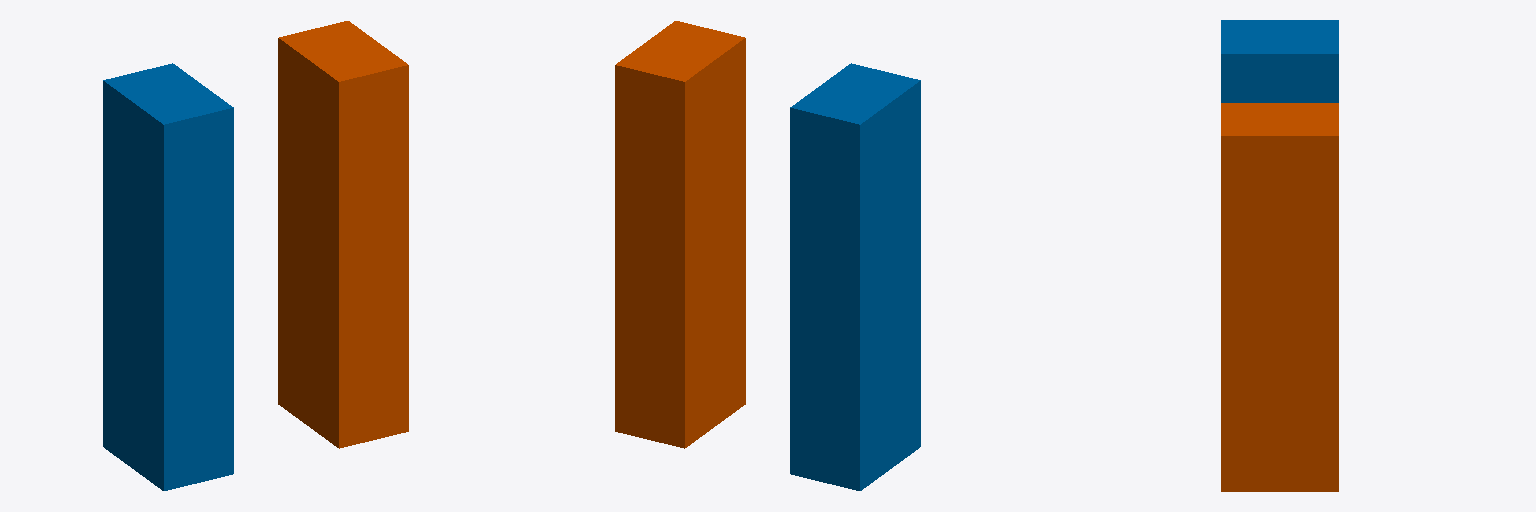
The robot description file, URDF, robot "kuka_iiwa":
<?xml version="1.0" ?>
<!--Autogenerated by "taco/models/sdf2urdf" converter from "../kuka_iiwa/kuka_iiwa.sdf"-->
<robot name="kuka_iiwa">

    <!-- GROUND LINK -->
  <link name ="ground_link">
    <inertial>
      <origin xyz="0.0 0.0 0.0" rpy="0 0 0" />
      <mass value="0.001" />
      <inertia ixx="1E-06" ixy="0.0" ixz="0.0" iyy="1E-06" iyz="0.0" izz="1E-06" />
    </inertial>
  </link>


  <!-- MOBILE BASE LINKS -->
  <link name ="base_x">
    <inertial>
      <origin xyz="0.0 0.0 0.0" rpy="0 0 0" />
      <mass value="0.001" />
      <inertia ixx="1E-06" ixy="0.0" ixz="0.0" iyy="1E-06" iyz="0.0" izz="1E-06" />
    </inertial>
  </link>

  <link name = "base_y">
    <inertial>
      <origin xyz="0.0 0.0 0.0" rpy="0 0 0" />
      <mass value = "0.001" />
      <inertia ixx="1E-06" ixy="0.0" ixz="0.0" iyy="1E-06" iyz="0.0" izz="1E-06" />
    </inertial>
  </link>

  <!-- MOBILE BASE -->
  <link name = "mobile_base">
    <inertial>
      <origin xyz="0.0 0.0 0.1757" rpy="0 0 0" />
      <mass value = "64.6" />
      <inertia ixx="1.721" ixy="0.0" ixz="0.0" iyy="1.712" iyz="0.0" izz="2.030" />
    </inertial>
    <visual>
      <geometry>
        <mesh filename="../../../model/iiwa7/meshes/kuka_mobile_base.obj" />
      </geometry>
    </visual>
  </link>

    <link name="base_link">
        <inertial>
            <origin xyz="0 0 0.14" rpy="0 -0 0" />
            <mass value="4" />
            <inertia ixx="0.4" iyy="0.4" izz="0.4" ixy="0" ixz="0" iyz="0" />
        </inertial>
        <visual>
            <origin xyz="0 0 0" rpy="0 -0 0" />
            <geometry>
                <mesh filename="../../../model/iiwa7/meshes/base.obj" scale="1 1 1" />
            </geometry>
        </visual>
        <!-- <collision>
            <origin xyz="0 0 0" rpy="0 -0 0" />
            <geometry>
                <mesh filename="../../../model/iiwa7/meshes/base.obj" scale="1 1 1" />
            </geometry>
        </collision> -->
    </link>
    <link name="link0">
        <inertial>
            <origin xyz="0 0 0.14" rpy="0 -0 0" />
            <mass value="4" />
            <inertia ixx="0.4" iyy="0.4" izz="0.4" ixy="0" ixz="0" iyz="0" />
        </inertial>
        <visual>
            <origin xyz="0 0 0" rpy="0 -0 0" />
            <geometry>
                <mesh filename="../../../model/iiwa7/meshes/link0.obj" scale="1 1 1" />
            </geometry>
        </visual>
        <!-- <collision>
            <origin xyz="0 0 0" rpy="0 -0 0" />
            <geometry>
                <mesh filename="../../../model/iiwa7/meshes/link0.obj" scale="1 1 1" />
            </geometry>
        </collision> -->
    </link>
    <link name="link1">
        <inertial>
            <origin xyz="0 0 0.14" rpy="0 -0 0" />
            <mass value="4" />
            <inertia ixx="0.4" iyy="0.4" izz="0.4" ixy="0" ixz="0" iyz="0" />
        </inertial>
        <visual>
            <origin xyz="0 0 0" rpy="0 -0 0" />
            <geometry>
                <mesh filename="../../../model/iiwa7/meshes/link1.obj" scale="1 1 1" />
            </geometry>
        </visual>
        <!-- <collision>
            <origin xyz="0 0 0" rpy="0 -0 0" />
            <geometry>
                <mesh filename="../../../model/iiwa7/meshes/link1.obj" scale="1 1 1" />
            </geometry>
        </collision> -->
    </link>
    <link name="link2">
        <inertial>
            <origin xyz="0 0 0.14" rpy="0 -0 0" />
            <mass value="4" />
            <inertia ixx="0.4" iyy="0.4" izz="0.4" ixy="0" ixz="0" iyz="0" />
        </inertial>
        <visual>
            <origin xyz="0 0 0" rpy="0 -0 0" />
            <geometry>
                <mesh filename="../../../model/iiwa7/meshes/link2.obj" scale="1 1 1" />
            </geometry>
        </visual>
        <!-- <collision>
            <origin xyz="0 0 0" rpy="0 -0 0" />
            <geometry>
                <mesh filename="../../../model/iiwa7/meshes/link2.obj" scale="1 1 1" />
            </geometry>
        </collision> -->
    </link>
    <link name="link3">
        <inertial>
            <origin xyz="0 0 0.14" rpy="0 0 0" />
            <mass value="4" />
            <inertia ixx="0.4" iyy="0.4" izz="0.4" ixy="0" ixz="0" iyz="0" />
        </inertial>
        <visual>
            <origin xyz="0 0 0" rpy="0 0 3.1415926535897" />
            <geometry>
                <mesh filename="../../../model/iiwa7/meshes/link3.obj" scale="1 1 1" />
            </geometry>
        </visual>
        <!-- <collision>
            <origin xyz="0 0 0" rpy="0 -0 0" />
            <geometry>
                <mesh filename="../../../model/iiwa7/meshes/link3.obj" scale="1 1 1" />
            </geometry>
        </collision> -->
    </link>
    <link name="link4">
        <inertial>
            <origin xyz="0 0 0.14" rpy="0 0 0" />
            <mass value="3" />
            <inertia ixx="0.3" iyy="0.3" izz="0.3" ixy="0" ixz="0" iyz="0" />
        </inertial>
        <visual>
            <origin xyz="0 0 0" rpy="0 0 0" />
            <geometry>
                <mesh filename="../../../model/iiwa7/meshes/link4.obj" scale="1 1 1" />
            </geometry>
        </visual>
        <!-- <collision>
            <origin xyz="0 0 0" rpy="0 -0 0" />
            <geometry>
                <mesh filename="../../../model/iiwa7/meshes/link4.obj" scale="1 1 1" />
            </geometry>
        </collision> -->
    </link>
    <link name="link5">
        <inertial>
            <origin xyz="0 0 0.14" rpy="0 0 0" />
            <mass value="2" />
            <inertia ixx="0.2" iyy="0.2" izz="0.2" ixy="0" ixz="0" iyz="0" />
        </inertial>
        <visual>
            <origin xyz="0 -0.06 0" rpy="0 0 0" />
            <geometry>
                <mesh filename="../../../model/iiwa7/meshes/link5.obj" scale="1 1 1" />
            </geometry>
        </visual>
        <!-- <collision>
            <origin xyz="0 -0.06 0" rpy="0 -0 0" />
            <geometry>
                <mesh filename="../../../model/iiwa7/meshes/link5.obj" scale="1 1 1" />
            </geometry>
        </collision> -->
    </link>
    <link name="link6">
        <inertial>
            <origin xyz="0 0 0.03" rpy="0 0 0" />
            <mass value="1" />
            <inertia ixx="0.1" iyy="0.1" izz="0.1" ixy="0" ixz="0" iyz="0" />
        </inertial>
        <visual>
            <origin xyz="0 0 0" rpy="0 0 0" />
            <geometry>
                <mesh filename="../../../model/iiwa7/meshes/link6.obj" scale="1 1 1" />
            </geometry>
        </visual>
        <!-- <collision>
            <origin xyz="0 0 0" rpy="0 0 0" />
            <geometry>
                <mesh filename="../../../model/iiwa7/meshes/link6.obj" scale="1 1 1" />
            </geometry>
        </collision> -->
        <visual>
        <origin xyz="0 0 0.03" rpy="0 0 0" />
        <geometry>
          <mesh filename="../../../model/iiwa7/meshes/hand.obj" scale="1 1 1"/>
        </geometry>
      </visual>
    </link>

    <link name="leftfinger">
      <inertial>
        <origin xyz="0 0 0.03" rpy="0 -0 0" />
        <mass value="0.1" />
        <inertia ixx="0.01" iyy="0.01" izz="0.005" ixy="0" ixz="0" iyz="0" />
      </inertial>
      <visual>
        <geometry>
          <mesh filename="../../../model/iiwa7/meshes/finger.obj"/>
        </geometry>
      </visual>

        <visual>
        <origin xyz="0 .01 0" rpy="0 0 0" />
        <geometry>
          <box size="0.03 .02 0.1" />
        </geometry>
      </visual> 
    </link>

    <link name="rightfinger">
      <inertial>
        <origin xyz="0 0 0.03" rpy="0 -0 0" />
        <mass value="0.1" />
        <inertia ixx="0.01" iyy="0.01" izz="0.005" ixy="0" ixz="0" iyz="0" />
      </inertial>
      <visual>
        <!-- <origin xyz="0 0 0" rpy="0 0 3.14159265359" /> -->
        <geometry>
          <mesh filename="../../../model/iiwa7/meshes/finger.obj"/>
        </geometry>
      </visual>

        <visual>
        <origin xyz="0 .01 0" rpy="0 0 0" />
        <geometry>
          <box size="0.03 .02 0.1" />
        </geometry>
      </visual> 
    </link>
  

    <joint name = "base_prismatic_x" type = "prismatic">
    <origin xyz = "0 0 0" rpy = "0 0 0"/> 
    <parent link = "ground_link" />
    <child link= "base_x"/>
    <axis xyz = "1 0 0" />
    <limit effort="87" lower="-2.8973" upper="2.9873" velocity="2.1750" />
  </joint>

  <joint name = "base_prismatic_y" type = "prismatic">
    <origin xyz = "0 0 0" rpy = "0 0 0"/> 
    <parent link = "base_x" />
    <child link= "base_y"/>
    <axis xyz = "0 1 0" />
    <limit effort="87" lower="-2.8973" upper="2.9873" velocity="2.1750" />
  </joint>

  <joint name = "base_revolute" type = "revolute">
    <origin xyz = "0 0 0.0" rpy = "0 0 0"/> 
    <parent link = "base_y" />
    <child link= "mobile_base"/>
    <axis xyz = "0 0 1" />
    <limit effort="87" lower="-2.8973" upper="2.8973" velocity="2.1750" />
  </joint>

   <joint name = "base_arm_fixed" type = "fixed">
    <origin xyz = "0 0 0.125" rpy = "0 0 0"/> 
    <parent link = "mobile_base" />
    <child link= "base_link"/>
    <axis xyz = "0 0 1" />
    <limit effort="87" lower="-2.8973" upper="2.8973" velocity="2.1750" />
  </joint>

  <!-- <joint name = "base_prismatic_link0" type = "prismatic">
    <origin xyz = "0 0 0.33" rpy = "0 0 0"/> 
    <parent link = "base_link" />
    <child link= "link0"/>
    <axis xyz = "0 0 1" />
    <limit effort="87" lower="-2.8973" upper="2.8973" velocity="2.1750" />
  </joint> -->

    <joint name="j0" type="revolute">
        <parent link="base_link" />
        <child link="link0" />
        <origin xyz="0.000000 0.000000 0.155767" rpy="0.000000 0.000000 0.000000" />
        <axis xyz="0 0 1" />
        <limit lower="-2.967" upper="2.967" effort="176" velocity="1.7104" />
    </joint>
    <joint name="j1" type="revolute">
        <parent link="link0" />
        <child link="link1" />
        <origin xyz="0.000000 0.000000 0.182500" rpy="0.000000 0.000000 0.000000" />
        <axis xyz="0 1 0" />
        <limit lower="-2.0944" upper="2.0944" effort="176" velocity="1.7104" />
    </joint>
    <joint name="j2" type="revolute">
        <parent link="link1" />
        <child link="link2" />
        <origin xyz="0.000000 0.000000 0.185000" rpy="0.000000 0.000000 0.000000" />
        <axis xyz="0 0 1" />
        <limit lower="-2.967" upper="2.967" effort="110" velocity="1.7453" />
    </joint>
    <joint name="j3" type="revolute">
        <parent link="link2" />
        <child link="link3" />
        <origin xyz="0.000000 0.000000 0.217000" rpy="0.000000 0.000000 3.1415926535897" />
        <axis xyz="0 1 0" />
        <limit lower="-2.0944" upper="2.0944" effort="110" velocity="2.2689" />
    </joint>
    <joint name="j4" type="revolute">
        <parent link="link3" />
        <child link="link4" />
        <origin xyz="0.000000 0.000000 0.186000" rpy="0.000000 0.000000 -3.1415926535897" />
        <axis xyz="0 0 1" />
        <limit lower="-2.967" upper="2.967" effort="110" velocity="2.4434" />
    </joint>
    <joint name="j5" type="revolute">
        <parent link="link4" />
        <child link="link5" />
        <origin xyz="0.000000 0.000000 0.217003" rpy="0.000000 0.000000 0.000000" />
        <axis xyz="0 1 0" />
        <limit lower="-2.0944" upper="2.0944" effort="40" velocity="3.1416" />
    </joint>
    <joint name="j6" type="revolute">
        <parent link="link5" />
        <child link="link6" />
        <origin xyz="0.000000 0.000000 0.081000" rpy="0.000000 0.000000 0.000000" />
        <axis xyz="0 0 1" />
        <limit lower="-3.0543" upper="3.0543" effort="40" velocity="3.1416" />
    </joint>

    <joint name="finger_joint1" type="prismatic">
      <parent link="link6"/>
      <child link="leftfinger"/>
      <origin xyz="-0.015 0.04 0.09" rpy="0 0 1.570796327"/>
      <axis xyz="0 1 0"/>
      <!-- <calibration rising="0.02" /> -->
      <limit effort="20" lower="0.0" upper="0.04" velocity="0.2"/>
    </joint>

    <joint name="finger_joint2" type="prismatic">
      <parent link="link6"/>
      <child link="rightfinger"/>
      <origin xyz="0.015 0.04 0.09" rpy="0 0 -1.570796327"/>
      <axis xyz="0 1 0"/>
      <!-- <calibration rising="-0.04" /> -->
      <limit effort="20" lower="0.0" upper="0.04" velocity="0.2"/>
      <!-- <mimic joint="finger_joint1" /> -->
    </joint>

</robot>

--- Facts derived from the render (not from the file) ---
3 views of the same robot in one strip: view 1: azimuth 30°, elevation 25°; view 2: azimuth 150°, elevation 25°; view 3: azimuth 270°, elevation 25° (orthographic).
Model kuka_iiwa with 14 links and 13 joints (8 revolute, 4 prismatic, 1 fixed), rooted at ground_link, posed every joint at zero.
Links seen in each view (by area): view 1: leftfinger, rightfinger; view 2: leftfinger, rightfinger; view 3: rightfinger, leftfinger.
Boxes of the visible links, <box> form: leftfinger: <box>103,63,233,490</box>; rightfinger: <box>278,21,408,448</box>; leftfinger: <box>790,63,920,490</box>; rightfinger: <box>615,21,745,448</box>; rightfinger: <box>1221,103,1338,491</box>; leftfinger: <box>1221,20,1338,102</box>.
Bounding box of the posed robot: 0.07 × 0.03 × 0.1 m (x, y, z).
Geometry: only primitive shapes (box / cylinder / sphere) drawn; not drawn: 12 mesh visuals (reference in a form the renderer does not follow).